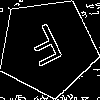F: (22, 22, 70, 76)
